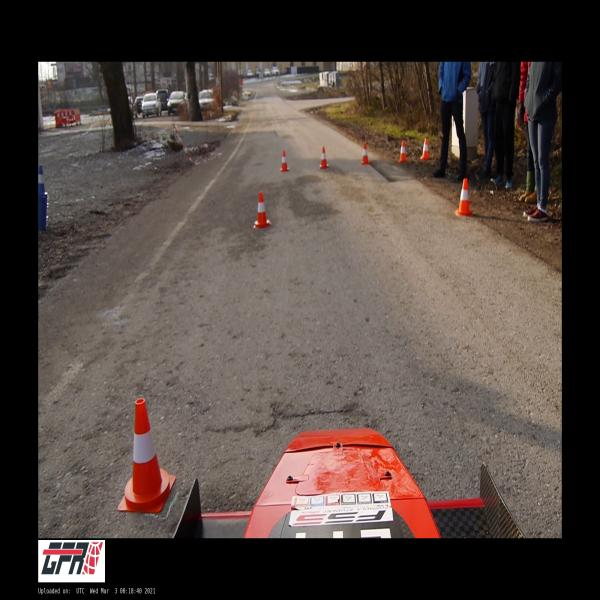orange_cone: (116, 398, 176, 512), (252, 191, 272, 229), (457, 178, 473, 216), (420, 138, 430, 161), (398, 140, 408, 162), (360, 142, 369, 165), (280, 150, 289, 172), (319, 146, 328, 168)
